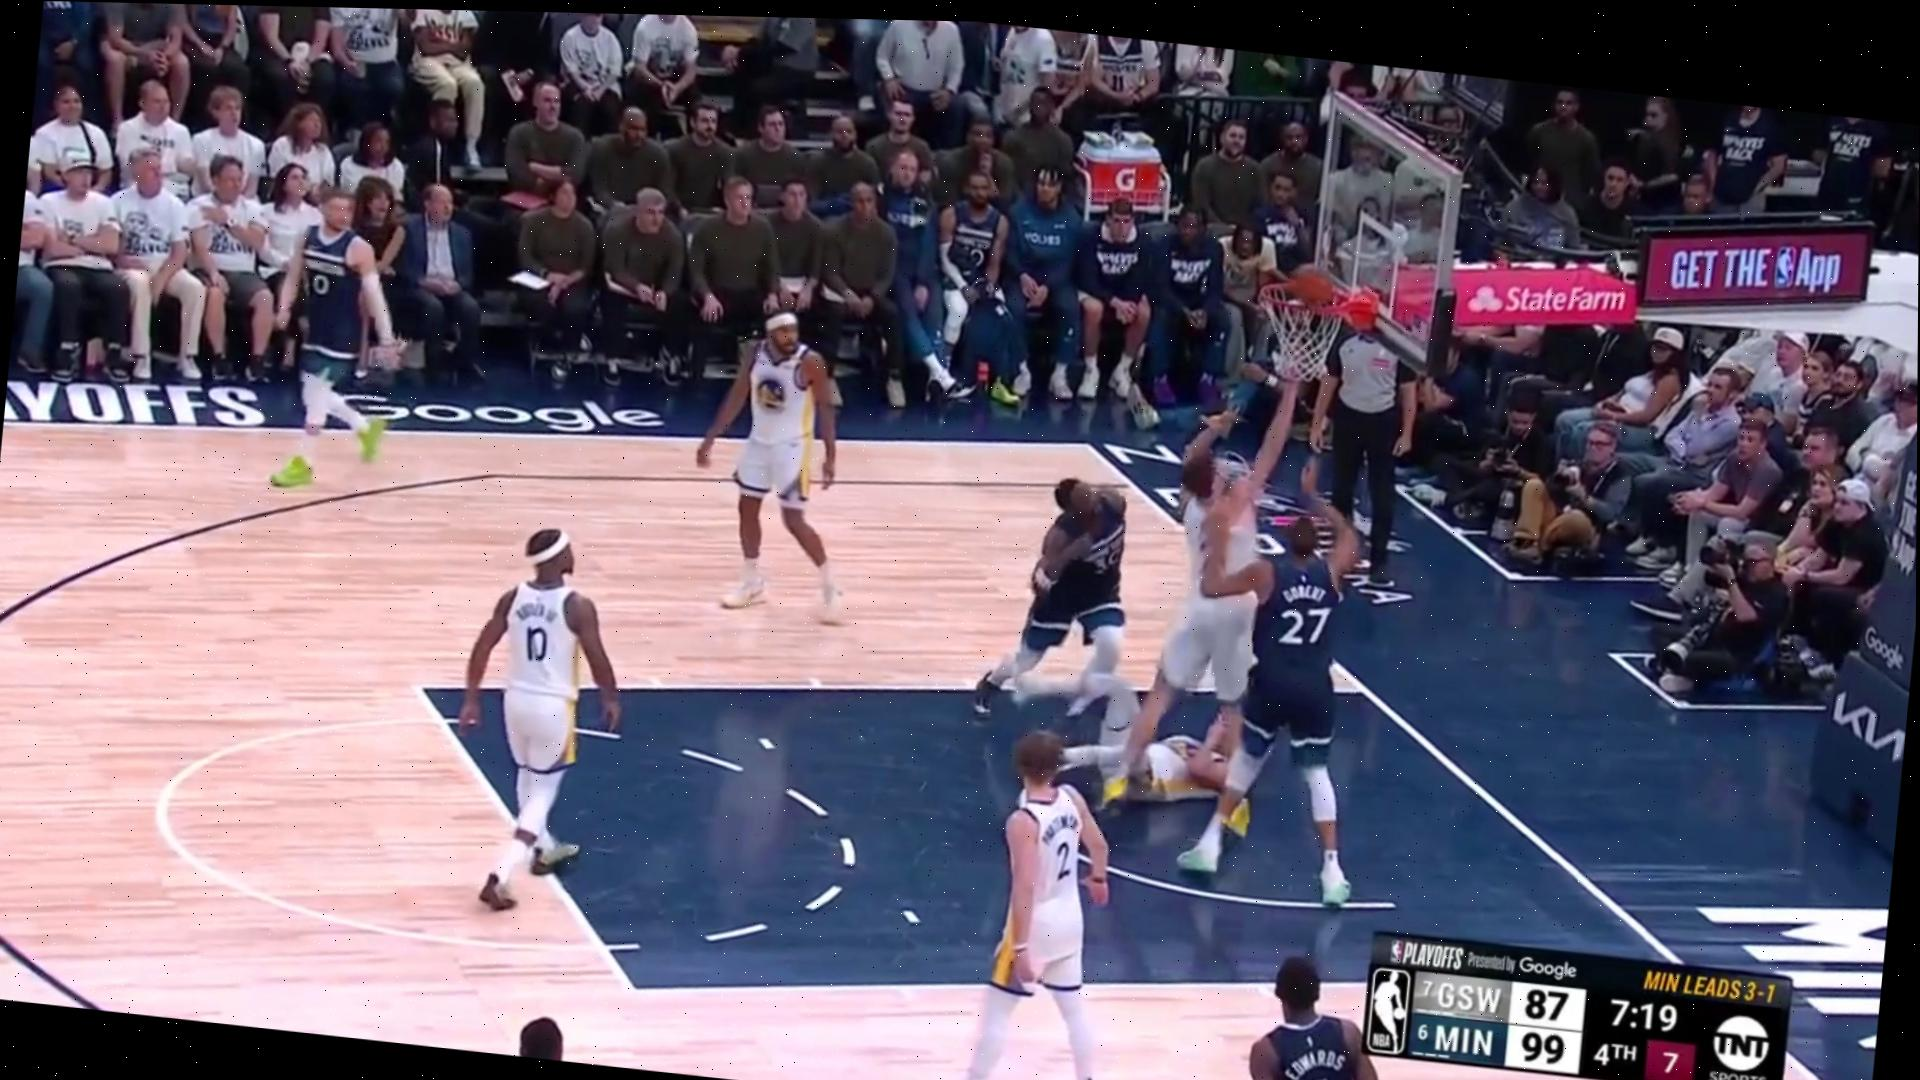foul: (988, 469, 1274, 835)
